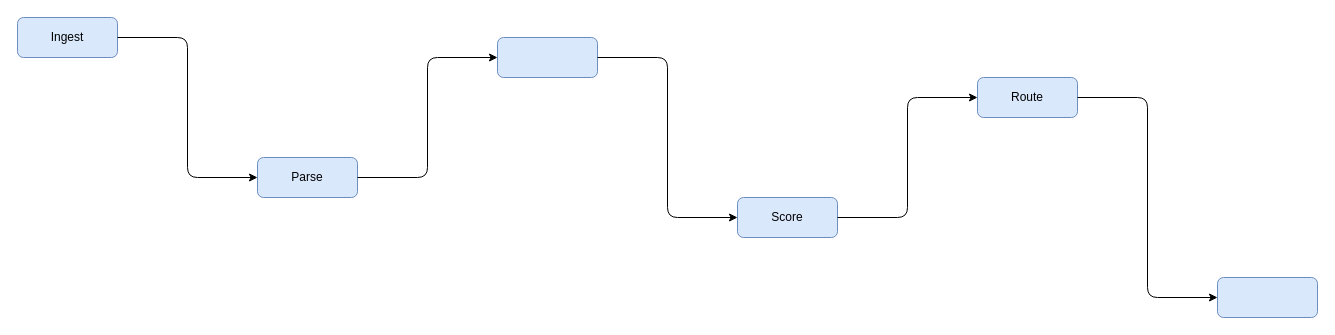
Some shapes in this 1335 by 335 pixel diagram are drawn without their labels. The centre of each missing label's shape, as x and y in pixels:
"Enrich" goes at (547,57).
"Sink" goes at (1267,297).
